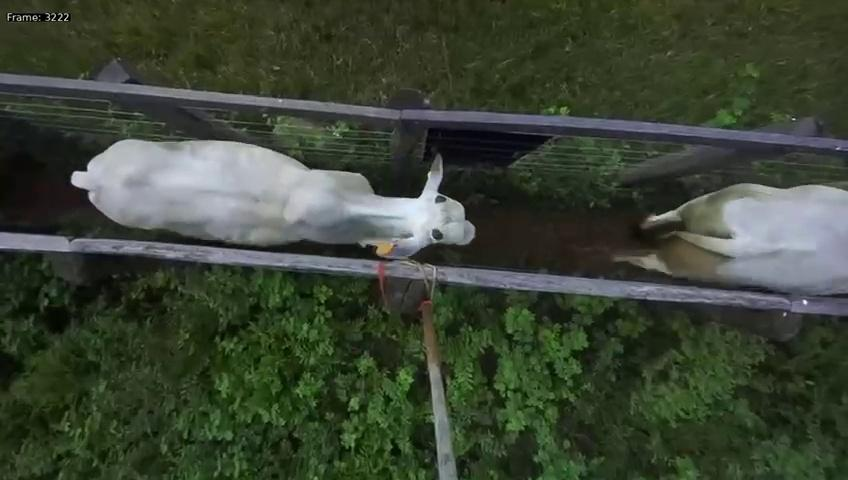cattle: (63, 105, 477, 260)
